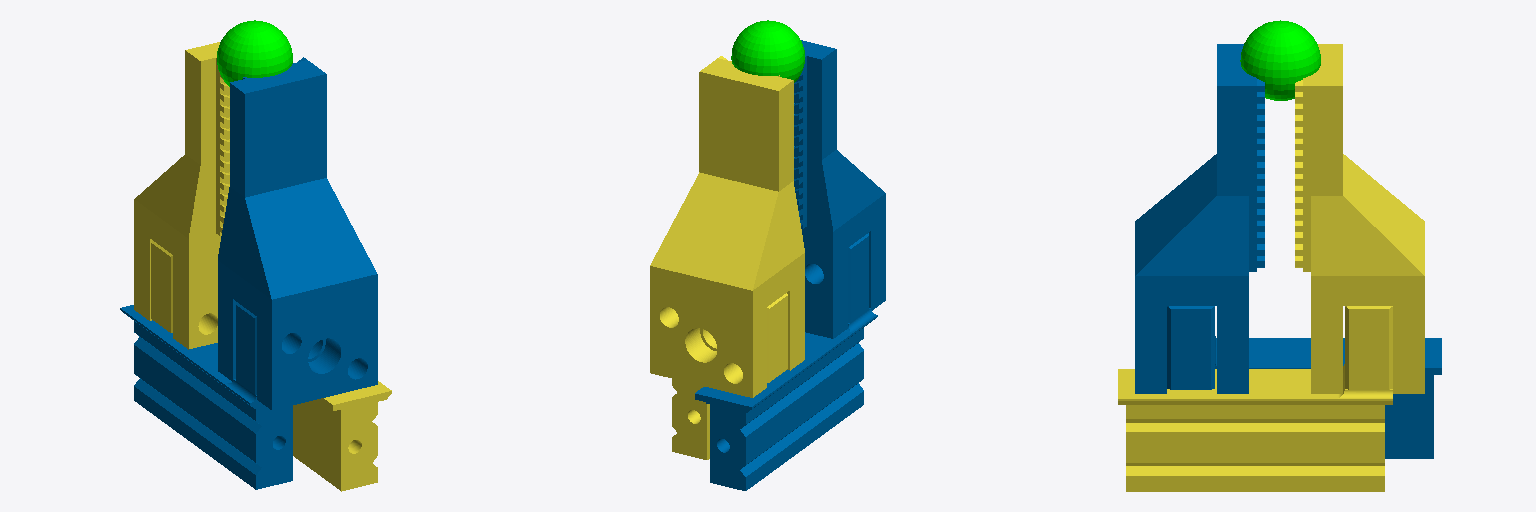
URDF robot description (endeffector):
<?xml version="1.0" ?>
<robot name="endeffector">

<link name="base">
    <visual>
        <origin rpy="0 0 0" xyz="0 0 0.00"/>
        <geometry>
				<mesh filename="endeffector_mesh/Gesamtaufbau_V2.stl" scale="0.001 0.001 0.001"/>
        </geometry>
    </visual>
</link>

<joint name="base_joint" type="fixed">
    <parent link="base"/>
    <child link="screwdriver"/>
    <origin rpy="0 0 0" xyz="0 0 0"/>
</joint>

<link name="screwdriver">
</link>
<joint name="screwdriver_joint" type="fixed">
    <parent link="base"/>
    <child link="screw_tip"/>
    <origin rpy="0 0 0" xyz="0.083 -0.104 0.026"/>
</joint>

<link name="screw_tip">
</link>

<joint name="left_jaw" type ="prismatic">
    <parent link="base"/>
    <child link="left_jaw_link"/>
    <axis xyz="0 1 0"/>
    <limit effort="1" lower="0" upper="0.01" velocity="0.01"/>
</joint>

<link name="left_jaw_link">
    <contact>
        <friction_anchor/>
        <stiffness value="1.0"/>
        <damping value="1000.0"/>
			<lateral_friction value="1.0" />
			<spinning_friction value="0.2" />
			<rolling_friction value="0.001" />
        <contact_cfm value="0.5" />
        <contact_erp value="0.5" />
    </contact>
    <visual>
        <origin rpy="1.570796327 0 1.570796327" xyz="0 0.003 0.080"/>
        <geometry>
            <mesh filename="endeffector_mesh/Backe1_V2.stl" scale="0.001 0.001 0.001"/>
        </geometry>
    </visual>
    <collision>
        <origin rpy="1.570796327 0 1.570796327" xyz="0 0.003 0.080"/>
        <geometry>
            <mesh filename="endeffector_mesh/Backe1_V2.stl" scale="0.001 0.001 0.001"/>
        </geometry>
    </collision>
</link>

<joint name="right_jaw" type ="prismatic">
    <parent link="base"/>
    <child link="right_jaw_link"/>
    <axis xyz="0 -1 0"/>
    <limit effort="1" lower="0" upper="0.01" velocity="0.01"/>
</joint>

<link name="right_jaw_link">
    <contact>
        <friction_anchor/>
        <stiffness value="1.0"/>
        <damping value="1000.0"/>
			<lateral_friction value="1.0" />
			<spinning_friction value="0.2" />
			<rolling_friction value="0.001" />
        <contact_cfm value="0.5" />
        <contact_erp value="0.5" />
    </contact>
    <visual>
        <origin rpy="1.570796327 0 1.570796327" xyz="0 0.003 0.080"/>
        <geometry>
            <mesh filename="endeffector_mesh/Backe2_V2.stl" scale="0.001 0.001 0.001"/>
        </geometry>
    </visual>
    <collision>
        <origin rpy="1.570796327 0 1.570796327" xyz="0 0.003 0.080"/> 
        <geometry>
            <mesh filename="endeffector_mesh/Backe2_V2.stl" scale="0.001 0.001 0.001"/>
        </geometry>
    </collision>
</link>

<joint name="gripper_center" type="fixed">
    <parent link="base"/>
    <child link="gripper_center_link"/>
    <origin rpy="0 0 0" xyz="0.0 0.0 0.16"/>
</joint>

<link name="gripper_center_link">
<visual>
    <geometry>
        <sphere radius="0.005"/>
    </geometry>
    <material name="green">
        <color rgba="0.0 1.0 0.0 1.0"/>
    </material>
</visual>
</link>

</robot>

--- What the picture shows (computed from the rendered views, not written in the file) ---
The picture shows the robot from 3 angles, left to right: view 1: azimuth 30°, elevation 25°; view 2: azimuth 150°, elevation 25°; view 3: azimuth 270°, elevation 25°; orthographic projection.
Robot: endeffector — 6 links, 5 joints (2 prismatic, 3 fixed); root link base; default pose: all joints at 0.
Visible links, largest first — view 1: right_jaw_link, left_jaw_link, gripper_center_link; view 2: left_jaw_link, right_jaw_link, gripper_center_link; view 3: left_jaw_link, right_jaw_link, gripper_center_link.
Boxes of the visible links, <box> form: right_jaw_link: <box>120,57,377,489</box>; left_jaw_link: <box>134,42,391,491</box>; gripper_center_link: <box>217,20,292,86</box>; left_jaw_link: <box>650,56,804,459</box>; right_jaw_link: <box>695,40,885,490</box>; gripper_center_link: <box>731,20,804,82</box>; left_jaw_link: <box>1118,44,1424,491</box>; right_jaw_link: <box>1135,44,1441,458</box>; gripper_center_link: <box>1240,20,1320,100</box>.
Bounding box of the posed robot: 0.018 × 0.04 × 0.0603 m (x, y, z).
2 mesh visuals loaded from 3 distinct referenced files (2 binary STL); not drawn: 1 (reference not matched to a file when rendering).